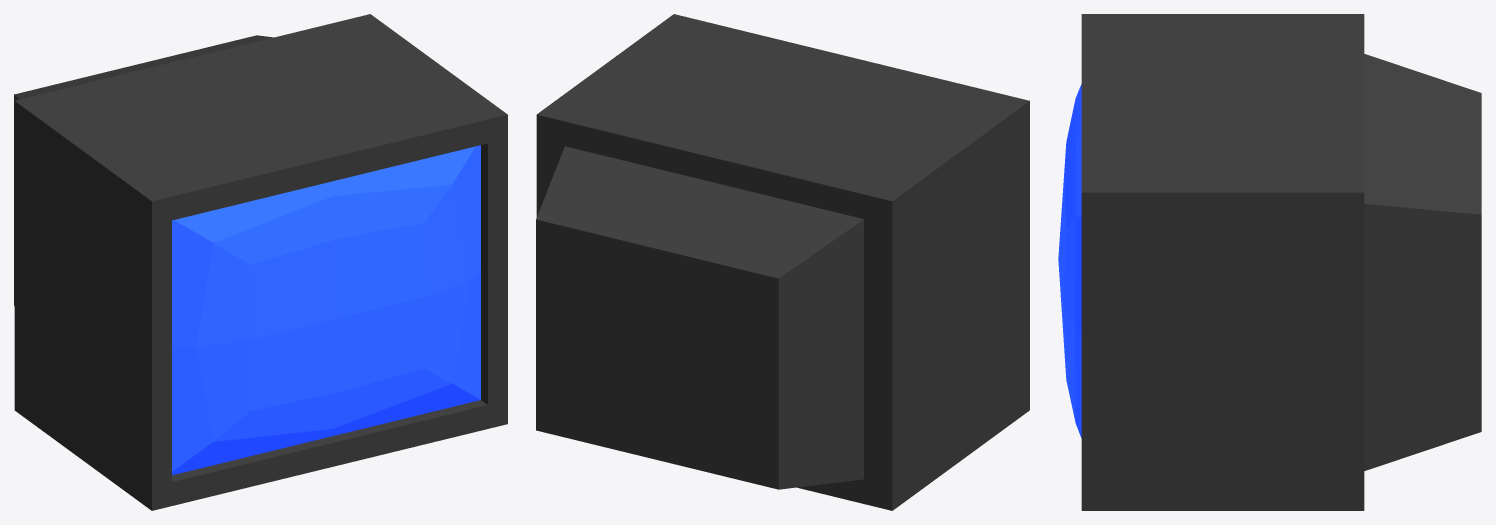
The model's file is boby_head.fbx.
3 views of the same model, side by side, from view 1: azimuth 30°, elevation 25°; view 2: azimuth 150°, elevation 25°; view 3: azimuth 270°, elevation 25° (orthographic). The views are drawn at different scales.
Visible parts, largest first — view 1: boby_head; view 2: boby_head; view 3: boby_head.
Part boxes in pixels (<box>): boby_head: <box>14,14,507,510</box>; boby_head: <box>536,14,1029,510</box>; boby_head: <box>1058,14,1481,510</box>.
Size of the model in its own units: 38.92 by 32.35 by 38.99.
